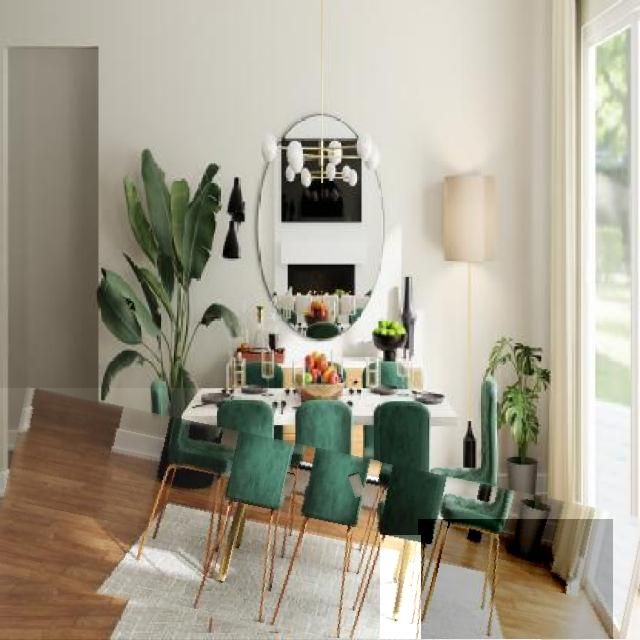floor: (0, 388, 380, 639), (419, 519, 613, 640), (352, 535, 421, 640), (351, 473, 365, 498), (281, 473, 295, 498)
